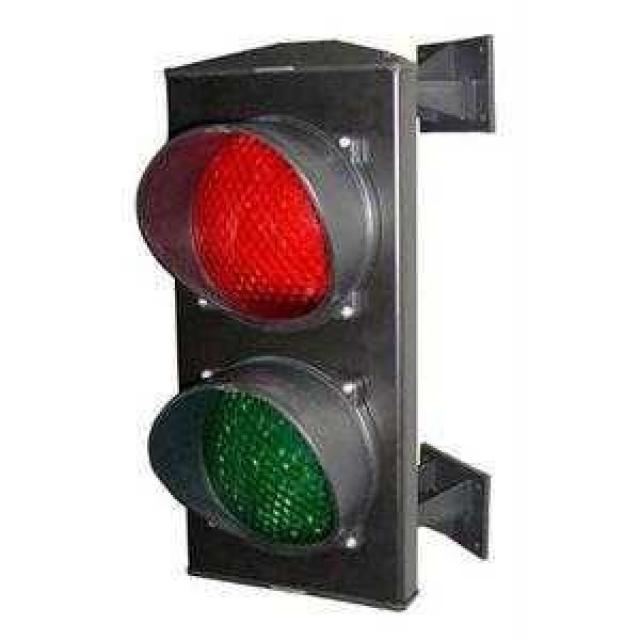Traffic Light -Red-: (115, 38, 425, 612)
